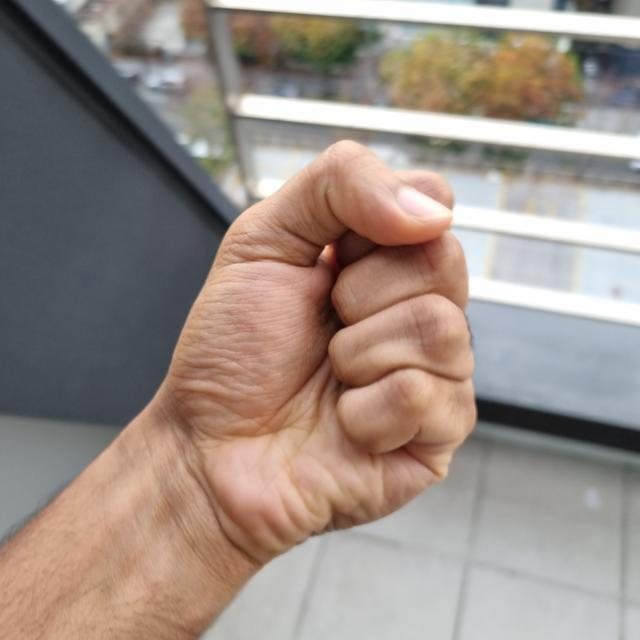Rock: (133, 141, 477, 572)
